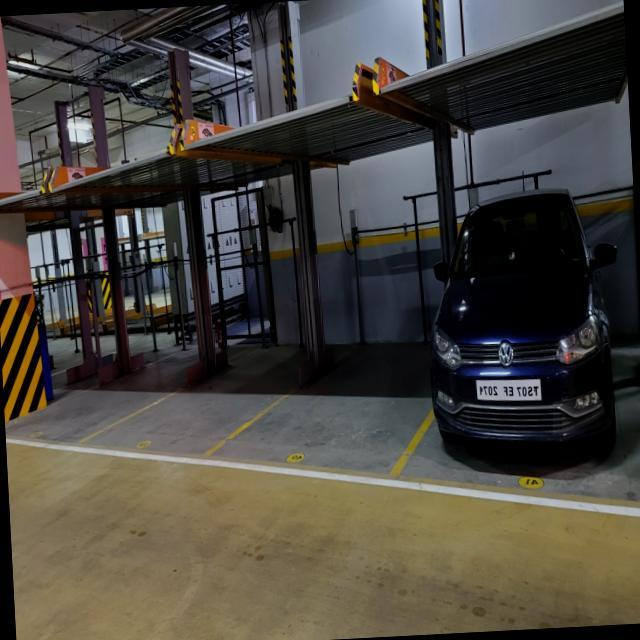car: (419, 226, 638, 492)
free: (232, 246, 434, 493), (108, 315, 257, 483), (6, 318, 134, 454)
